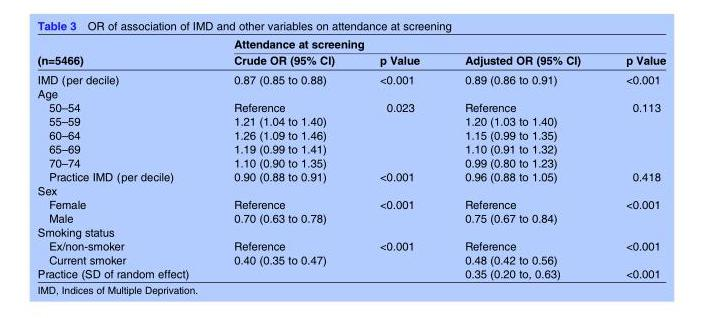table: (36, 36, 665, 279)
table column: (36, 36, 210, 279), (441, 36, 602, 279), (210, 36, 356, 279), (356, 36, 441, 279), (602, 36, 665, 279)
table column header: (36, 36, 665, 69)
table projected row header: (36, 224, 665, 238), (36, 86, 665, 99), (36, 183, 665, 196)
table row: (36, 51, 665, 69), (36, 69, 665, 86), (36, 36, 665, 51), (36, 99, 665, 113), (36, 113, 665, 127), (36, 127, 665, 141), (36, 141, 665, 155), (36, 155, 665, 169), (36, 169, 665, 183), (36, 196, 665, 210), (36, 210, 665, 224), (36, 224, 665, 238), (36, 238, 665, 252), (36, 252, 665, 266), (36, 86, 665, 99), (36, 183, 665, 196), (36, 266, 665, 279)
table spanning cell: (210, 36, 665, 51), (356, 99, 441, 169), (36, 36, 210, 69), (602, 99, 665, 169), (356, 196, 441, 224), (356, 238, 441, 266), (602, 196, 665, 224), (602, 238, 665, 266)
